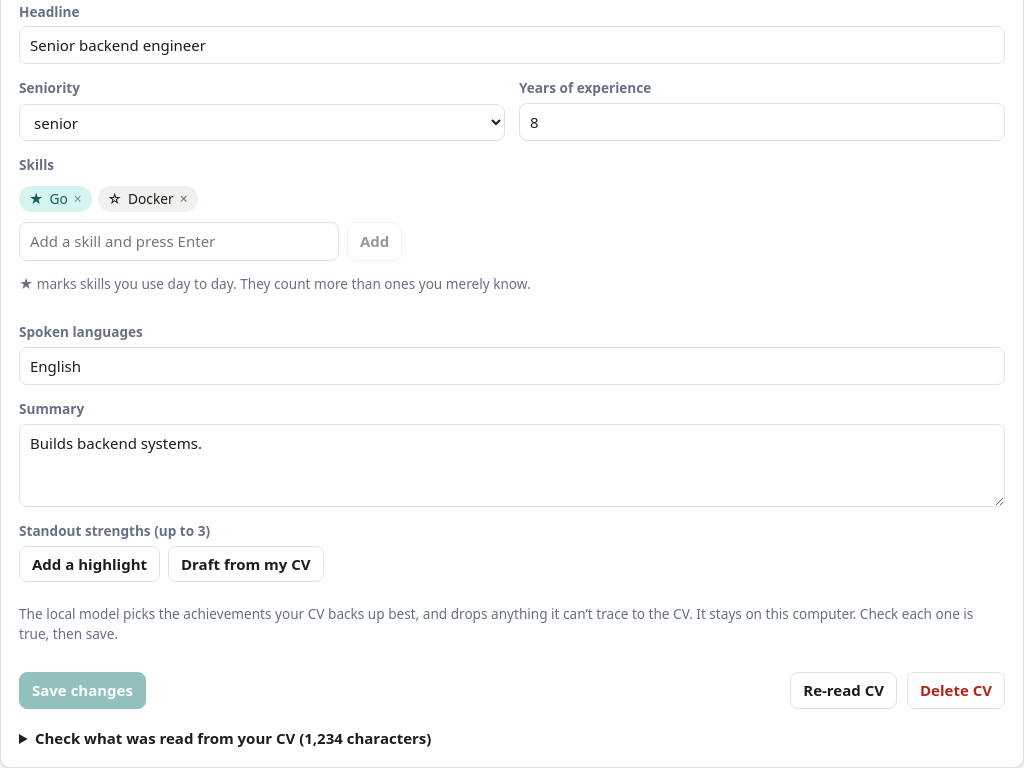
Test case: Profile page: highlights › passes on what the model could not back up
The width and height of the screenshot is (1024, 768).
(page scrolled)
What coordinates should you click on to do the following:
click the button "Draft from my CV"
I would click on:
 (246, 564)
Its box is [168,546,324,582].
(page scrolled)
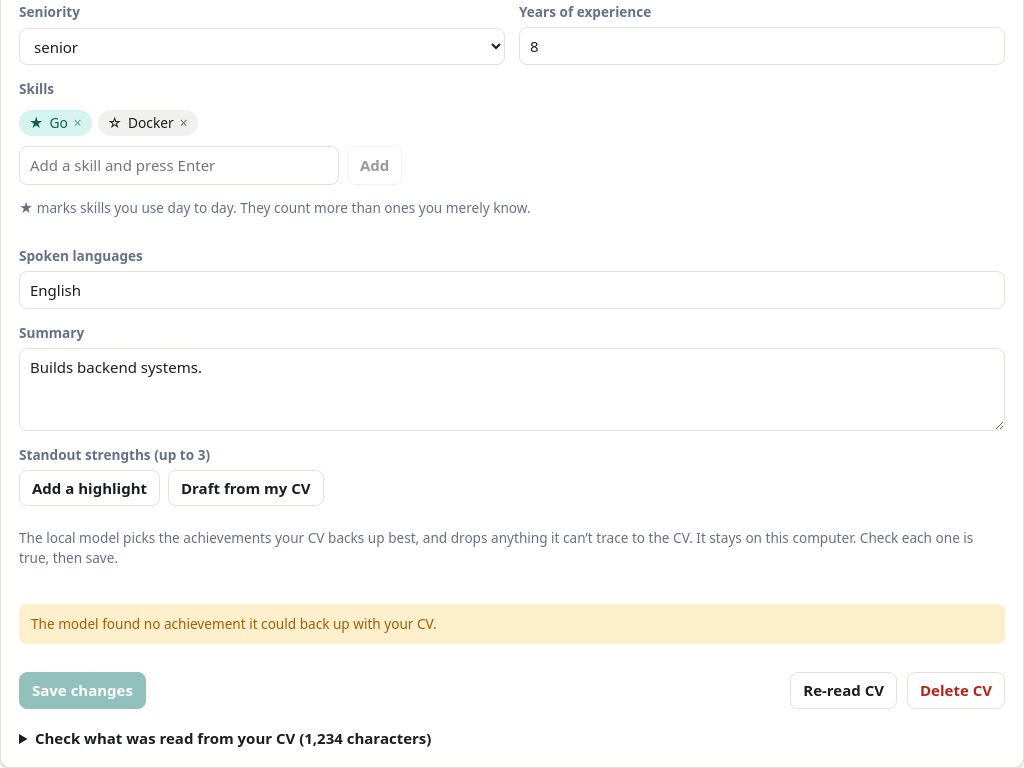
Expected: the button "Save changes" is disabled, [19,672,146,708]
Expected: the text "The model found no achievement it could back up with your CV." is shown, [19,604,1005,644]
